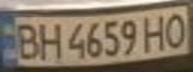4: (63, 19, 87, 60)
5: (103, 17, 124, 57)
6: (84, 18, 106, 58)
9: (118, 16, 142, 56)
B: (9, 19, 45, 61)
H: (139, 11, 172, 52), (33, 19, 63, 61)
O: (160, 9, 193, 50)
